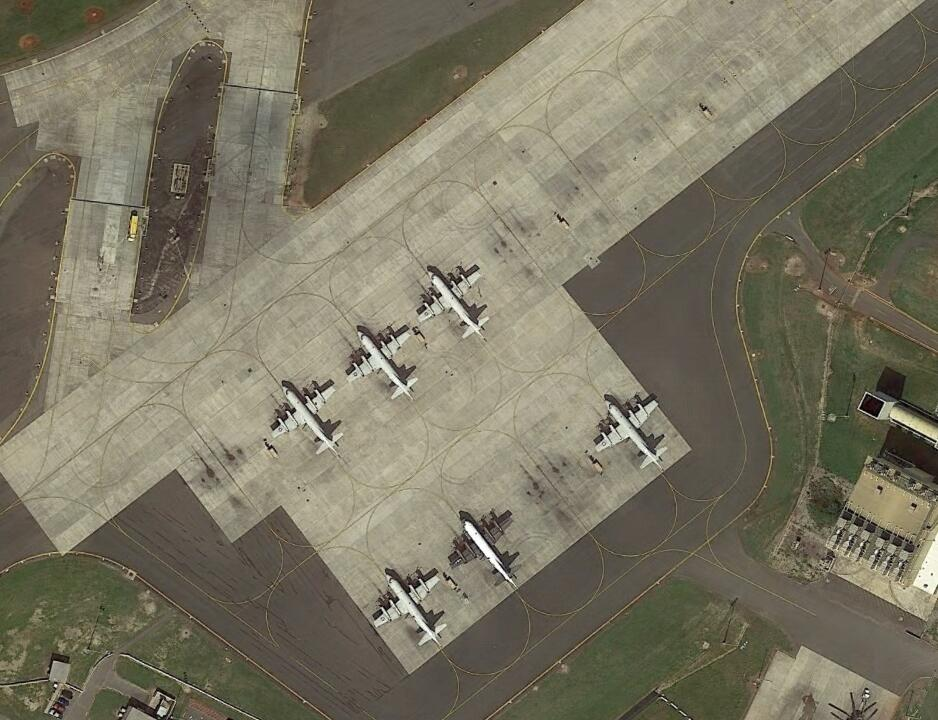A9: (368, 566, 450, 652), (444, 509, 522, 592), (594, 395, 670, 475), (345, 325, 422, 403), (268, 380, 345, 458), (415, 263, 491, 338)
